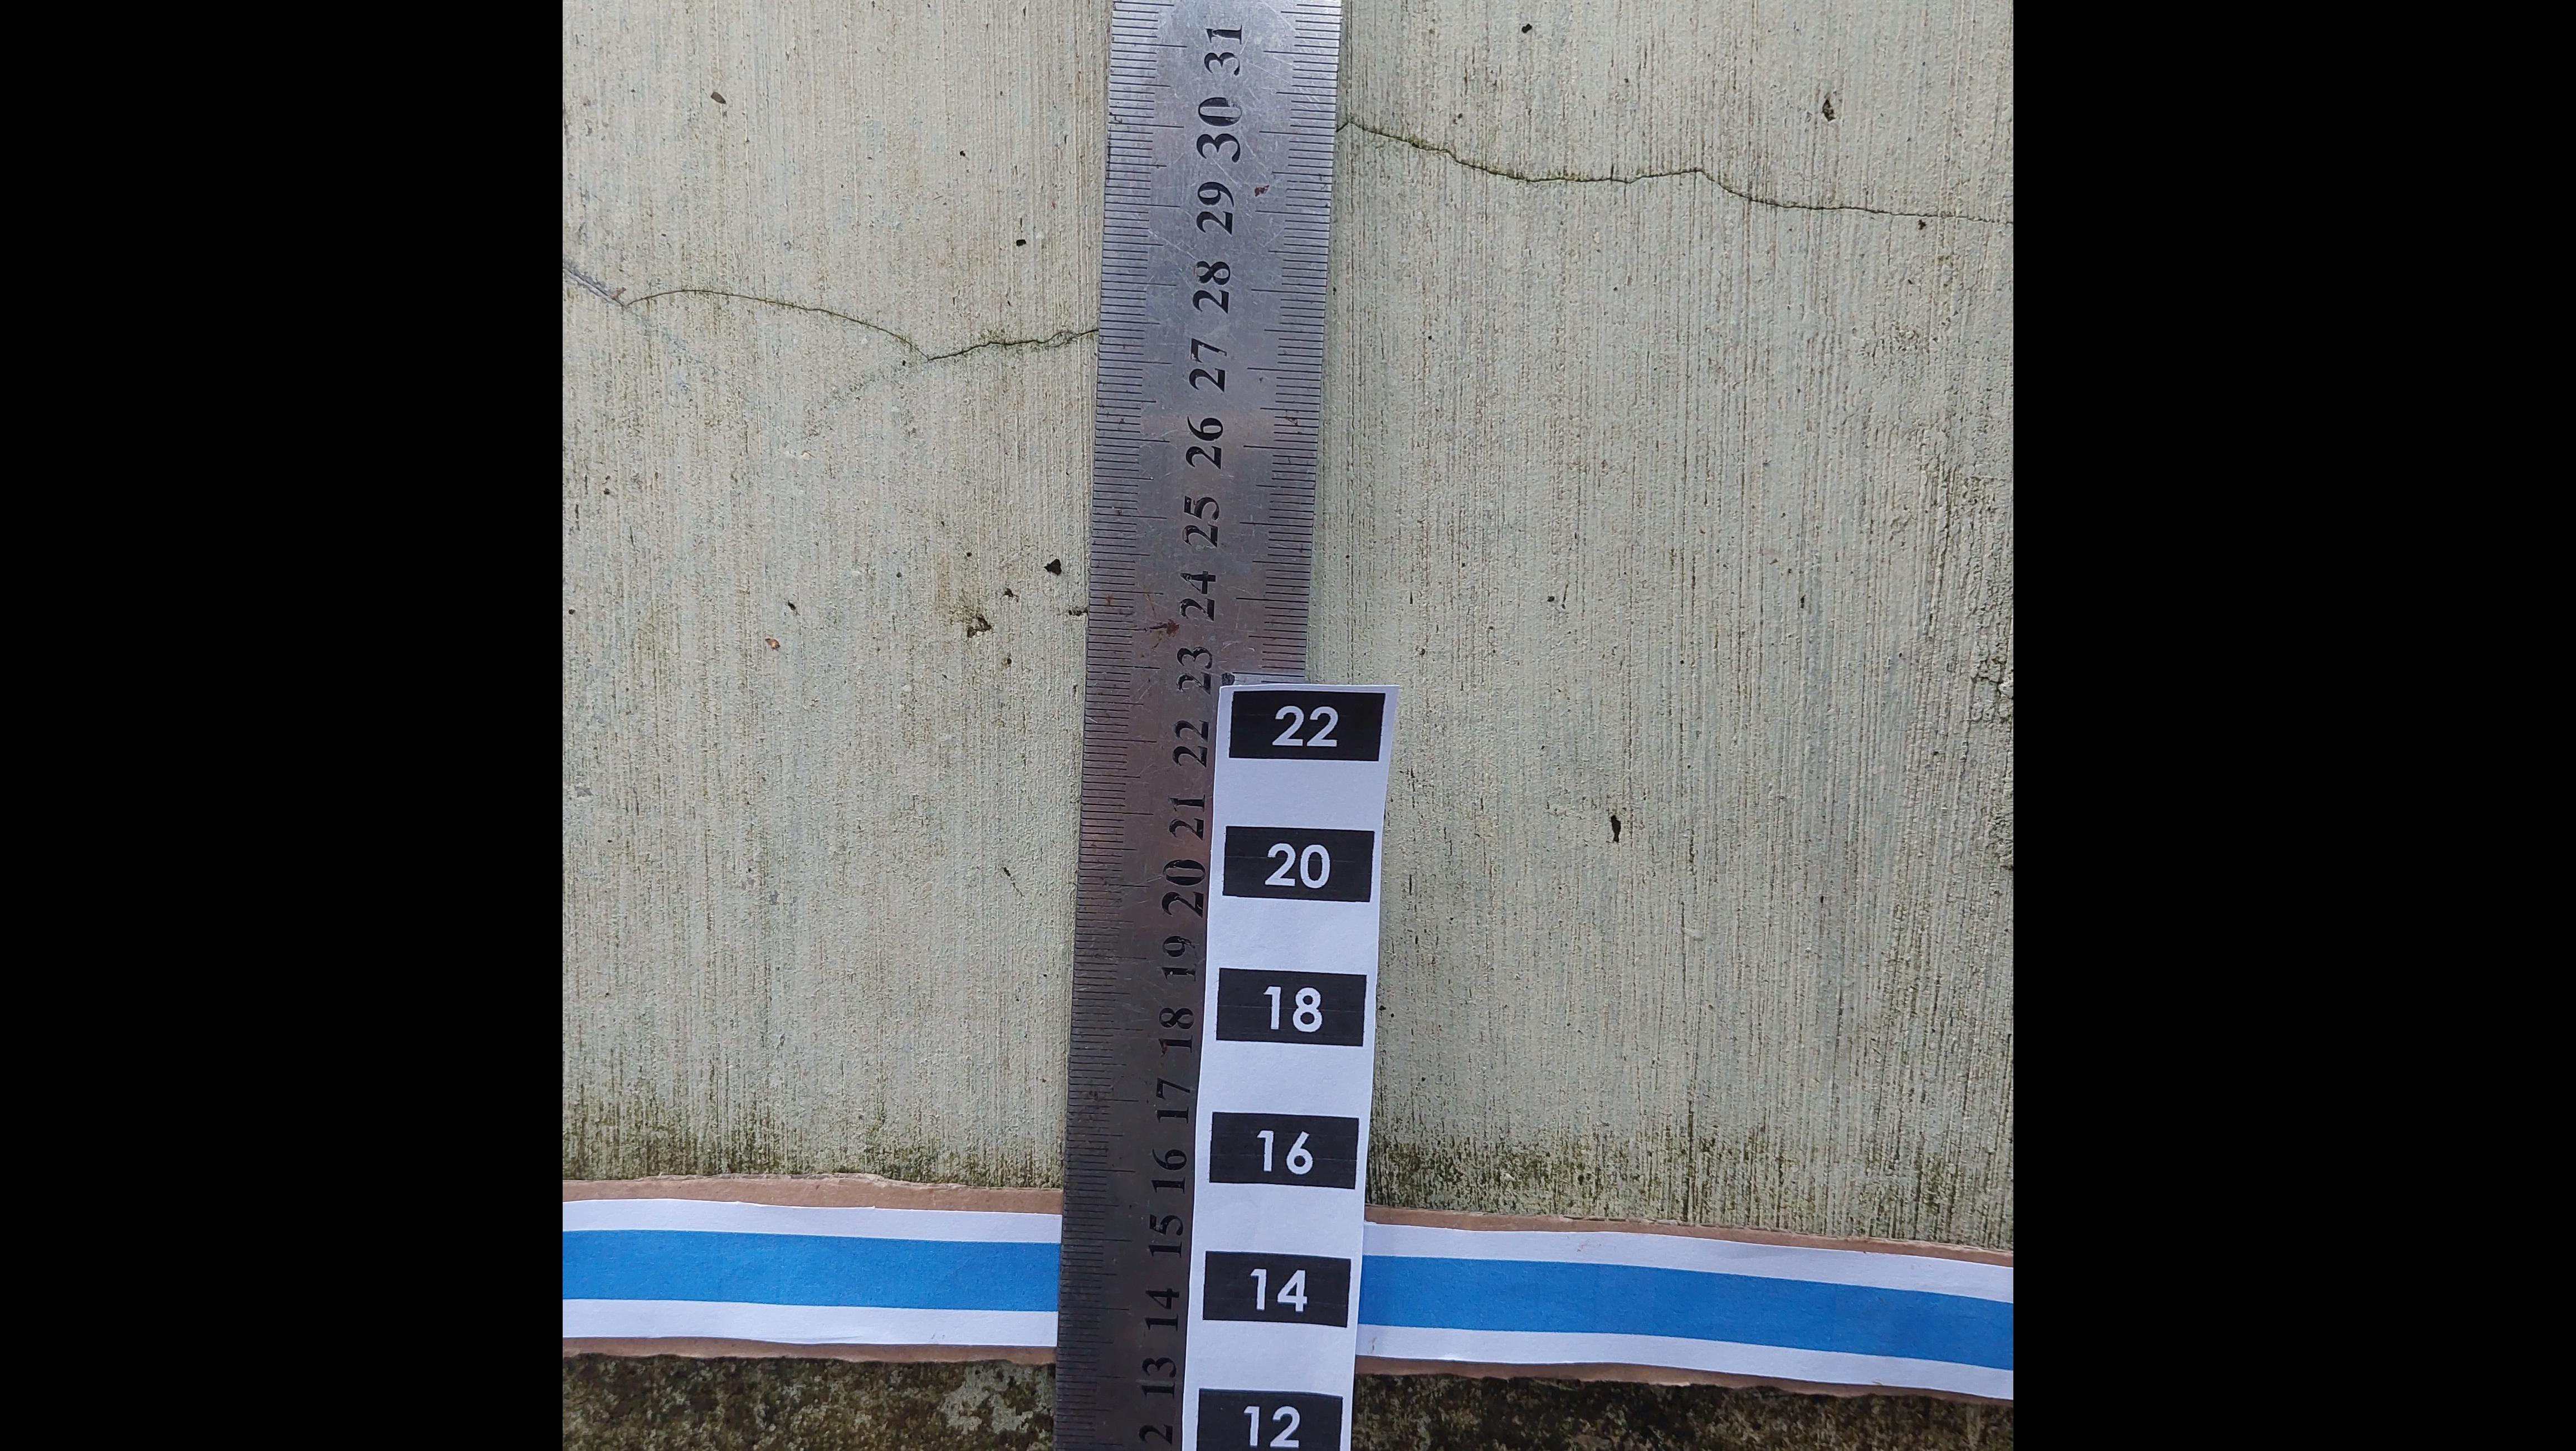kotak_2x1: (1217, 968, 1364, 1053), (1233, 690, 1380, 768), (1212, 1113, 1355, 1193), (1224, 828, 1376, 902), (1207, 1249, 1345, 1329)
